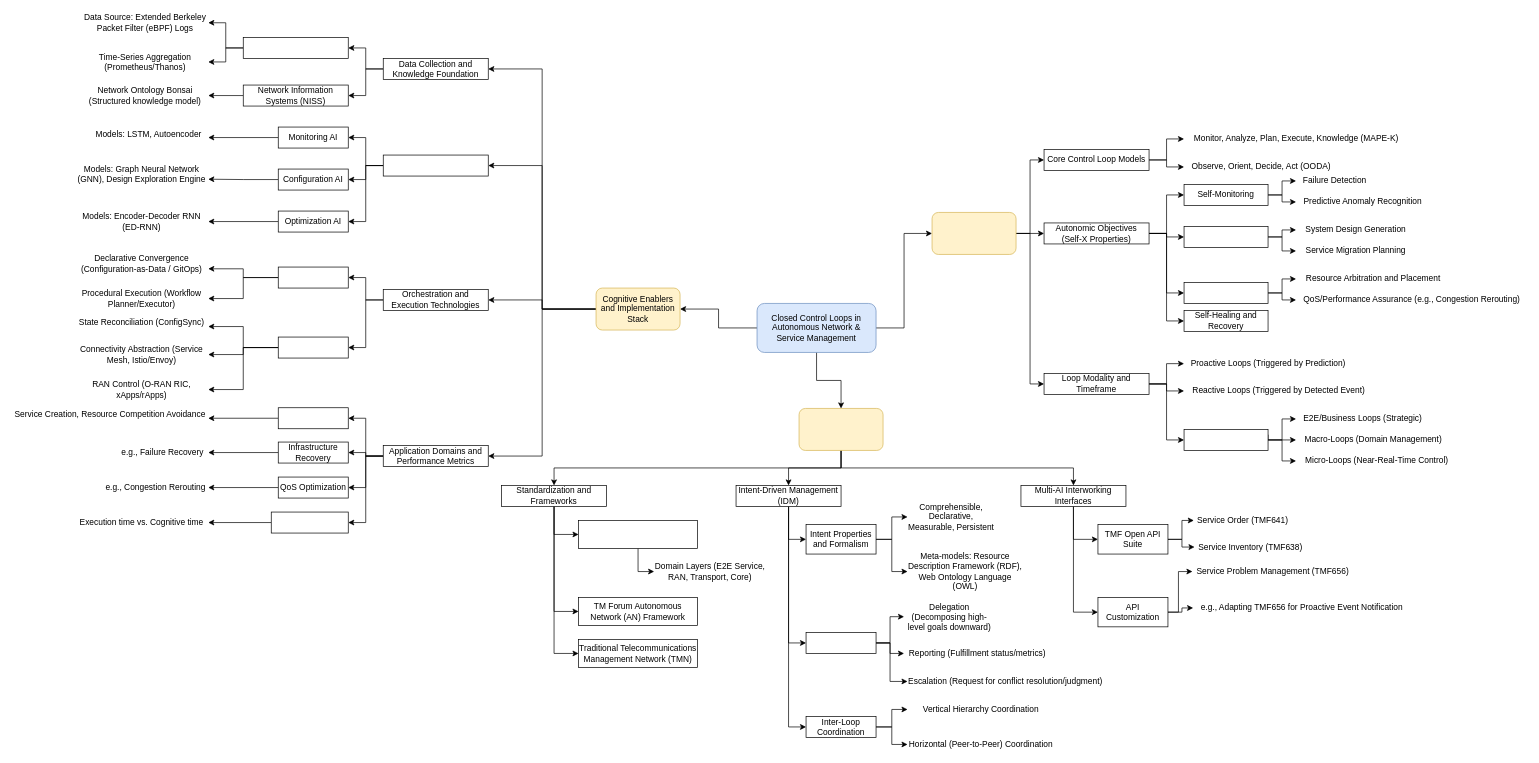
The diagram is 1539 pixels wide and 763 high, and some of its shapes have lost their labels. Each missing label, with the centre of its shape:
"Architectural Governance and Coordination" belongs at (x=840, y=429).
"Cloud-Native Control Plane" belongs at (x=313, y=347).
"ETSI Zero-touch Network and Service Management (ZSM)" belongs at (x=638, y=534).
"Execution Paradigms" belongs at (x=313, y=277).
"Foundational Models and Autonomic Functions" belongs at (x=973, y=233).
"Hierarchy of Loops" belongs at (x=1225, y=439).
"High-Fidelity Observability" belongs at (x=295, y=47).
"Intent Life Cycle Operations (IHF)" belongs at (x=840, y=642).
"Performance Bottleneck Analysis" belongs at (x=309, y=522).
"Self-Configuration" belongs at (x=1225, y=236).
"Self-Optimization" belongs at (x=1225, y=292).
"Service Fulfillment" belongs at (x=313, y=418).
"Specialized AI/ML Agents" belongs at (x=435, y=165).
